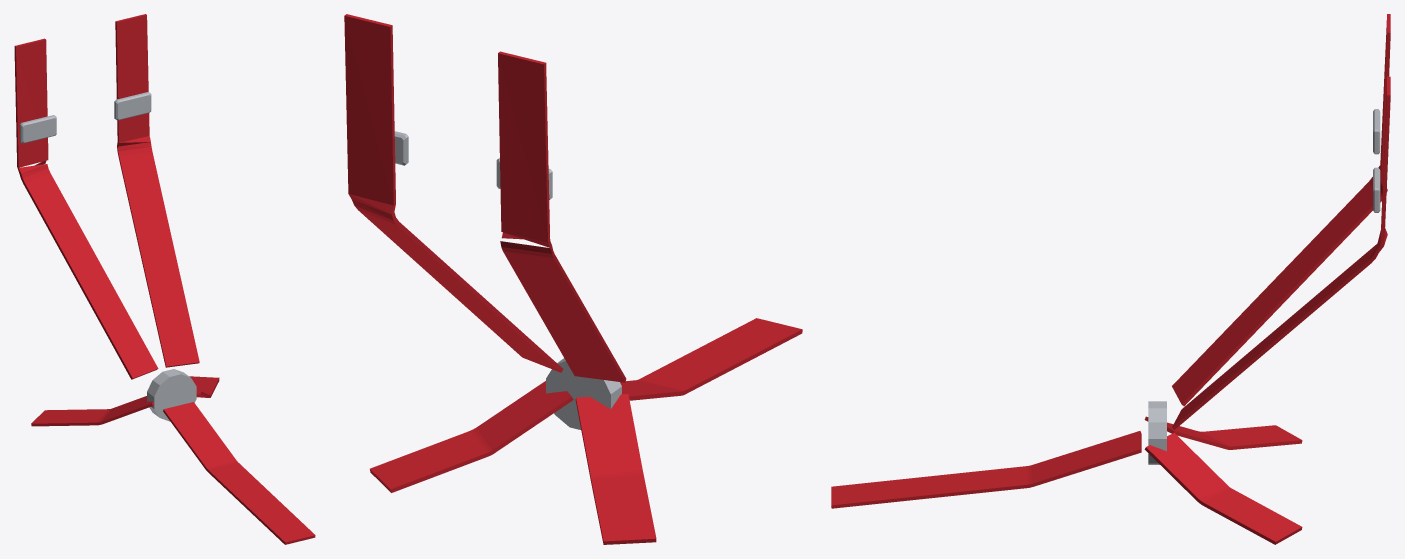
The model's file is brute_500.glb.
The picture shows the model from 3 angles, left to right: view 1: azimuth 30°, elevation 25°; view 2: azimuth 150°, elevation 25°; view 3: azimuth 270°, elevation 25°; orthographic projection. The views are drawn at different scales.
Visible parts, largest first — view 1: model; view 2: model; view 3: model.
Part boxes in pixels (bbox=[...]): model: bbox=[14, 14, 315, 544]; model: bbox=[344, 14, 802, 544]; model: bbox=[831, 14, 1390, 544].
Bounding box in the file's own units: 0.2989 × 0.531 × 0.6056.
Materials: 1 (1 with a texture image).
